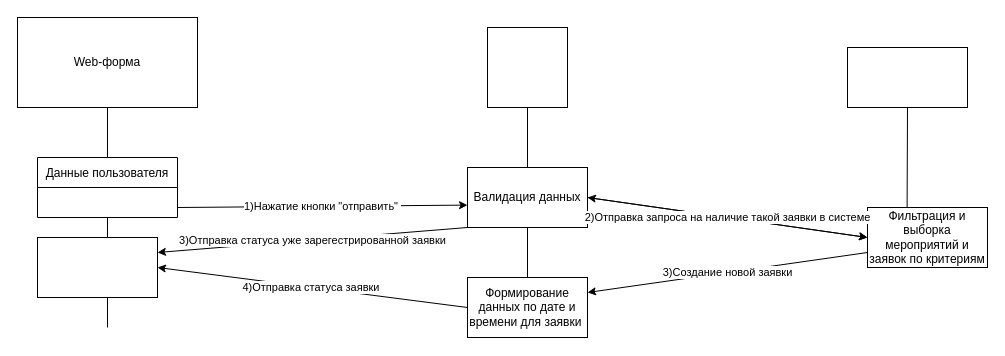
Image size: 1005x356. Some labels were removed from this diagram. The centre of each missing label's shape, as x and y in pixels:
"CRM" goes at pixel 907 77.
"Возврат пользователю одного из вариантов сообщения" goes at pixel 97 267.
"Микросервис" goes at pixel 527 67.
